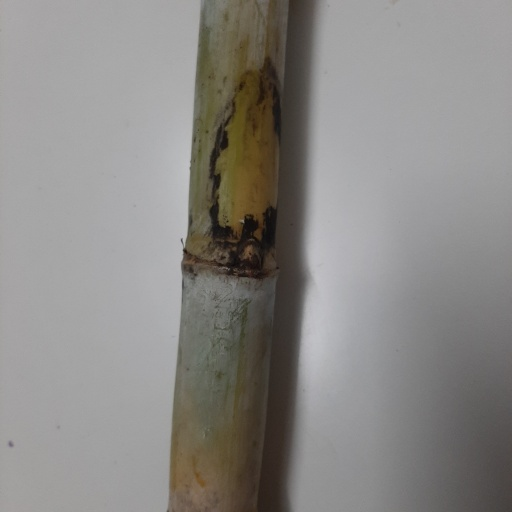Bud: (235, 238, 263, 270)
